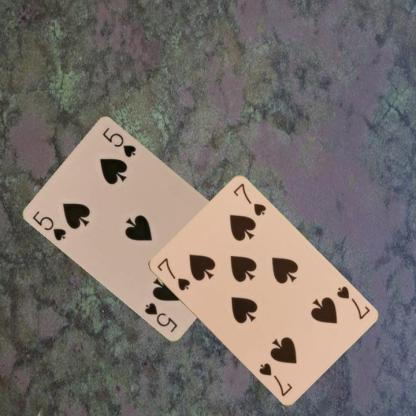5s: (30, 208, 68, 242)
7s: (333, 283, 371, 321), (154, 255, 191, 292)
